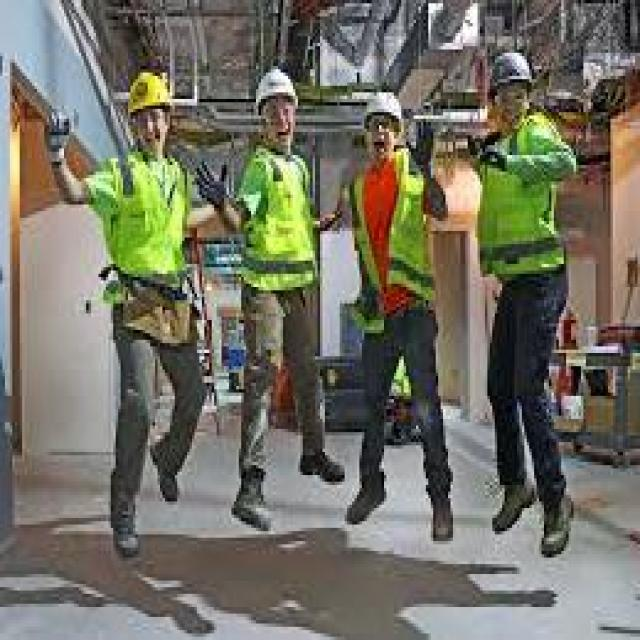Reflective-Jacket: (470, 109, 586, 293), (79, 145, 204, 307), (345, 148, 443, 340), (232, 142, 328, 317)
Safety-Helmet: (118, 63, 180, 125), (246, 59, 308, 119), (355, 86, 411, 142), (485, 46, 539, 96)
